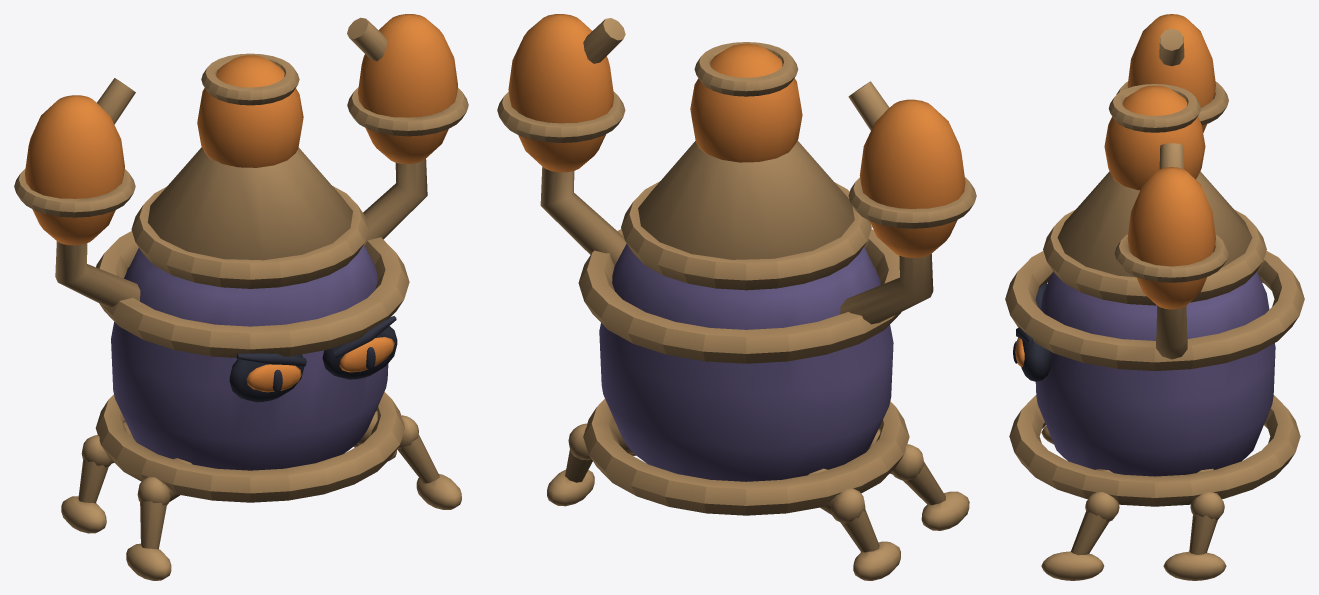
Rendered from boss_9.glb.
3 views of the same model, side by side, from view 1: azimuth 30°, elevation 25°; view 2: azimuth 150°, elevation 25°; view 3: azimuth 270°, elevation 25° (orthographic). The views are drawn at different scales.
Visible parts, largest first — view 1: Email_BestiaireSculpte, Email_Art_bouchon_0, Email_Art_bras_g_0, Email_Art_bras_d_0, Email_Art_tibia_g_0, Email_Art_tibia_g_1, Email_Art_tibia_d_0; view 2: Email_BestiaireSculpte, Email_Art_bouchon_0, Email_Art_bras_d_0, Email_Art_bras_g_0, Email_Art_tibia_g_1, Email_Art_tibia_g_0, Email_Art_tibia_d_1; view 3: Email_BestiaireSculpte, Email_Art_bouchon_0, Email_Art_bras_d_0, Email_Art_bras_g_0, Email_Art_tibia_d_0, Email_Art_tibia_d_1.
Part boxes in pixels (x1,y1,x2,y2): Email_BestiaireSculpte: (95, 186, 409, 502); Email_Art_bouchon_0: (147, 53, 352, 260); Email_Art_bras_g_0: (14, 78, 140, 307); Email_Art_bras_d_0: (347, 14, 468, 245); Email_Art_tibia_g_0: (126, 477, 171, 580); Email_Art_tibia_g_1: (61, 435, 112, 533); Email_Art_tibia_d_0: (397, 415, 461, 509); Email_BestiaireSculpte: (578, 181, 909, 515); Email_Art_bouchon_0: (638, 42, 854, 259); Email_Art_bras_d_0: (497, 14, 626, 265); Email_Art_bras_g_0: (840, 81, 976, 324); Email_Art_tibia_g_1: (830, 488, 900, 580); Email_Art_tibia_g_0: (891, 444, 969, 530); Email_Art_tibia_d_1: (547, 423, 594, 506); Email_BestiaireSculpte: (1005, 209, 1304, 506); Email_Art_bouchon_0: (1057, 84, 1252, 277); Email_Art_bras_d_0: (1114, 143, 1228, 359); Email_Art_bras_g_0: (1116, 14, 1228, 132); Email_Art_tibia_d_0: (1041, 492, 1119, 580); Email_Art_tibia_d_1: (1163, 492, 1226, 580).
Bounding box in the file's own units: 1.13 × 1.12 × 0.712.
